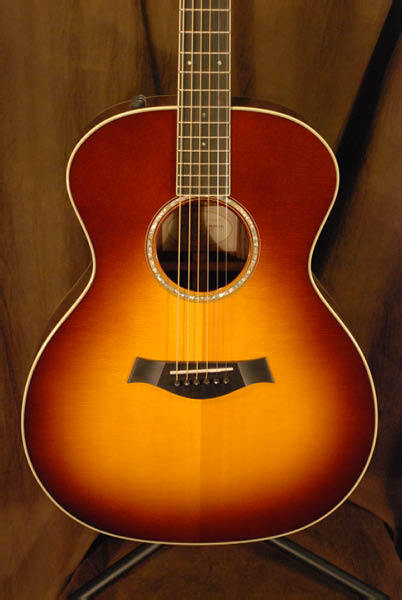guitar: (20, 1, 379, 548)
